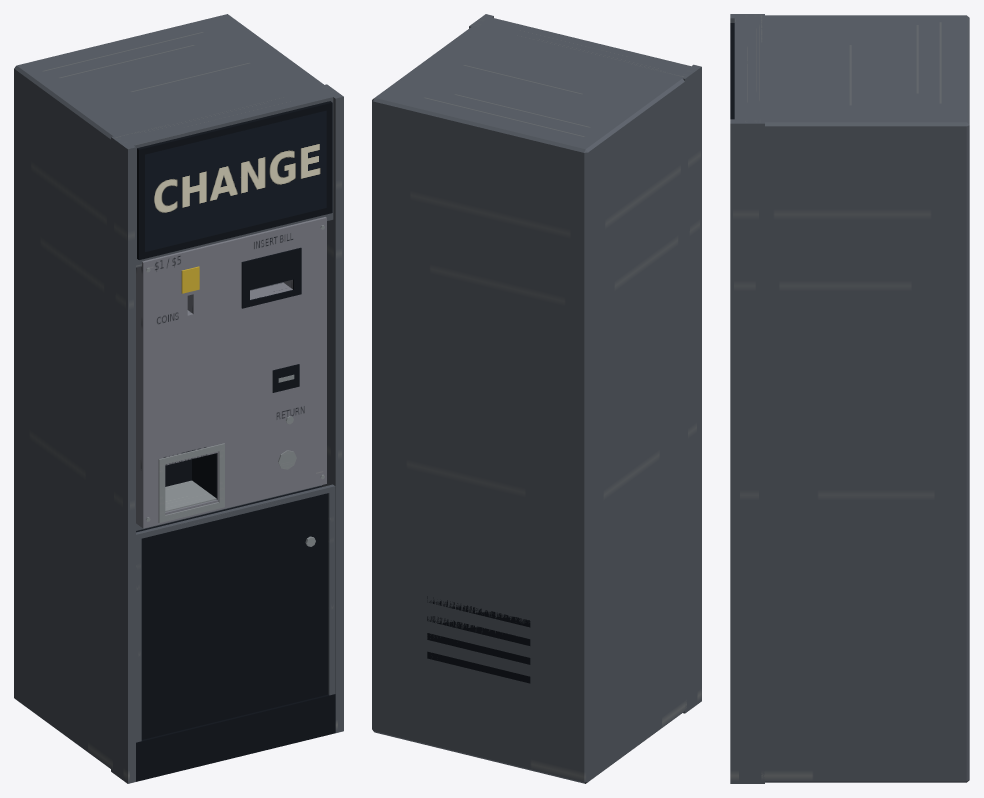
File: change_machine.glb
The picture shows the model from 3 angles, left to right: view 1: azimuth 30°, elevation 25°; view 2: azimuth 150°, elevation 25°; view 3: azimuth 270°, elevation 25°; orthographic projection. The views are drawn at different scales.
Parts seen in each view (by area): view 1: arcade_change_machine; view 2: arcade_change_machine; view 3: arcade_change_machine.
Part boxes in pixels (x1=…): arcade_change_machine: x1=14, y1=14, x2=343, y2=783; arcade_change_machine: x1=372, y1=14, x2=701, y2=783; arcade_change_machine: x1=730, y1=14, x2=969, y2=783.
Size of the model in its own units: 0.52 by 1.46 by 0.48.
1 material, 1 textured.
